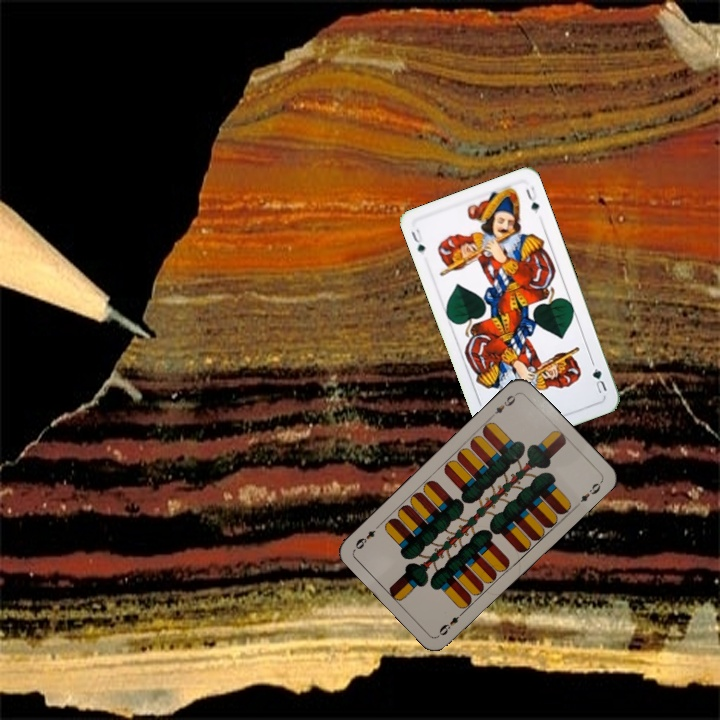E9: (435, 607, 467, 638), (491, 389, 520, 417)
GU: (588, 364, 610, 398), (407, 224, 428, 258)
